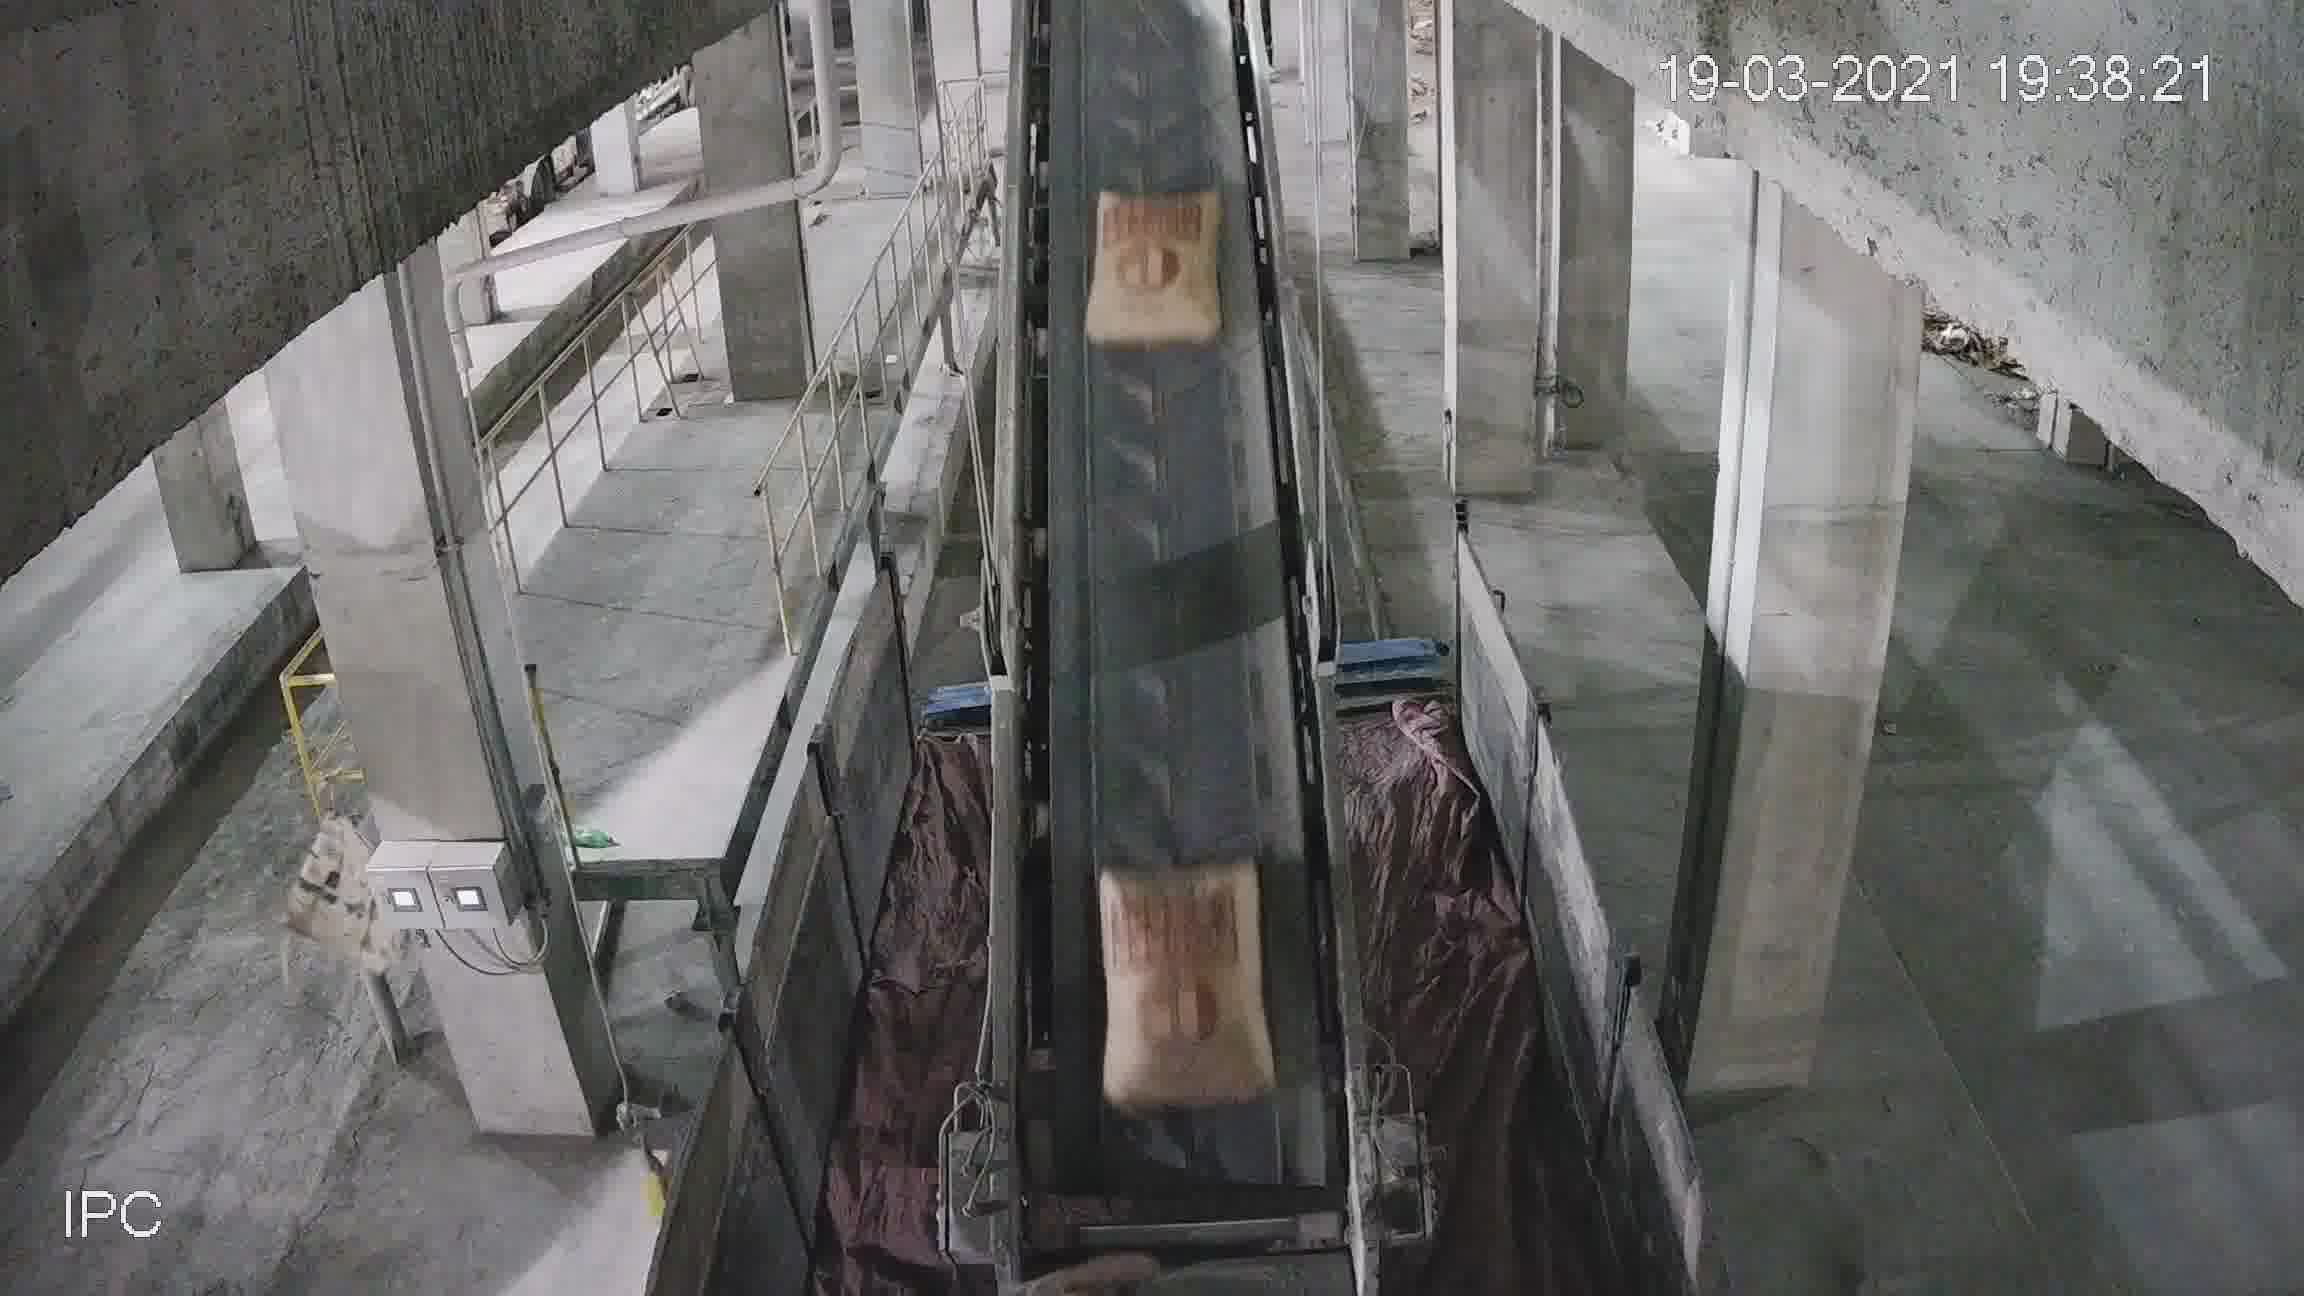bag: (1101, 851, 1268, 1108), (1089, 198, 1218, 343)
belt: (995, 35, 1337, 1211)
